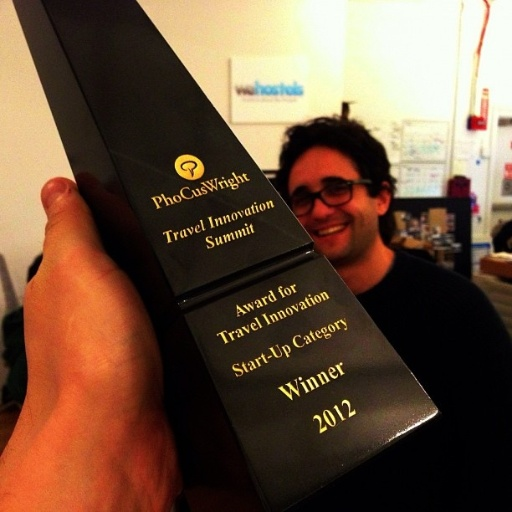hand: (0, 176, 199, 493)
